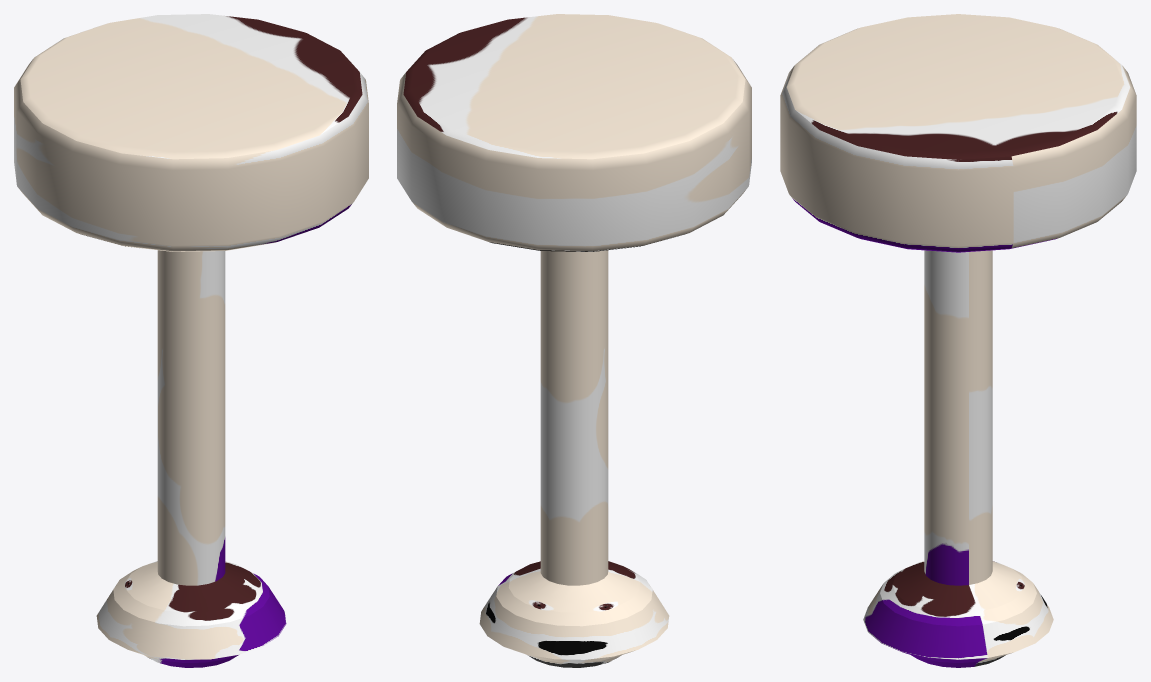
The model's file is banco.fbx.
The picture shows the model from 3 angles, left to right: view 1: azimuth 30°, elevation 25°; view 2: azimuth 150°, elevation 25°; view 3: azimuth 270°, elevation 25°; orthographic projection.
Parts seen in each view (by area): view 1: banco_pCylinder3; view 2: banco_pCylinder3; view 3: banco_pCylinder3.
Boxes of the visible parts, <box> form: banco_pCylinder3: <box>14,14,368,667</box>; banco_pCylinder3: <box>397,14,751,667</box>; banco_pCylinder3: <box>780,14,1136,667</box>.
Size of the model in its own units: 4.5 by 7.85 by 4.5.
